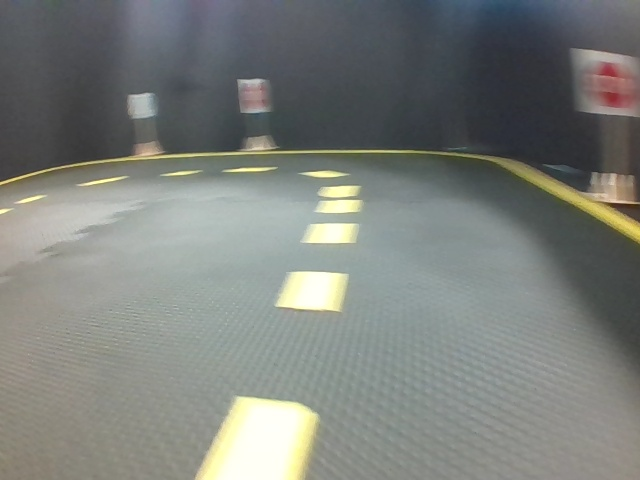no30: (129, 95, 156, 120)
stop: (576, 48, 639, 117), (242, 80, 266, 111)
